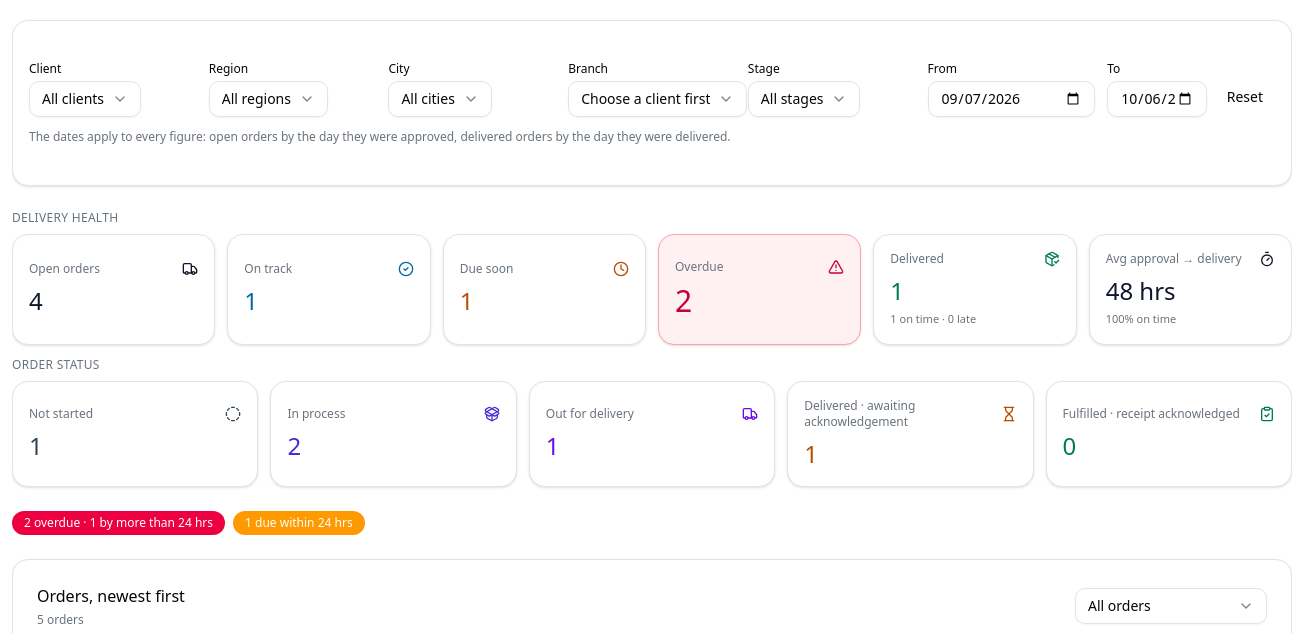
Scenario: choosing a KPI card › says so when the chosen card has no orders
Click the button "Fulfilled · receipt acknowledged 0" at [1169, 434], box [1046, 380, 1292, 486]
(page scrolled)
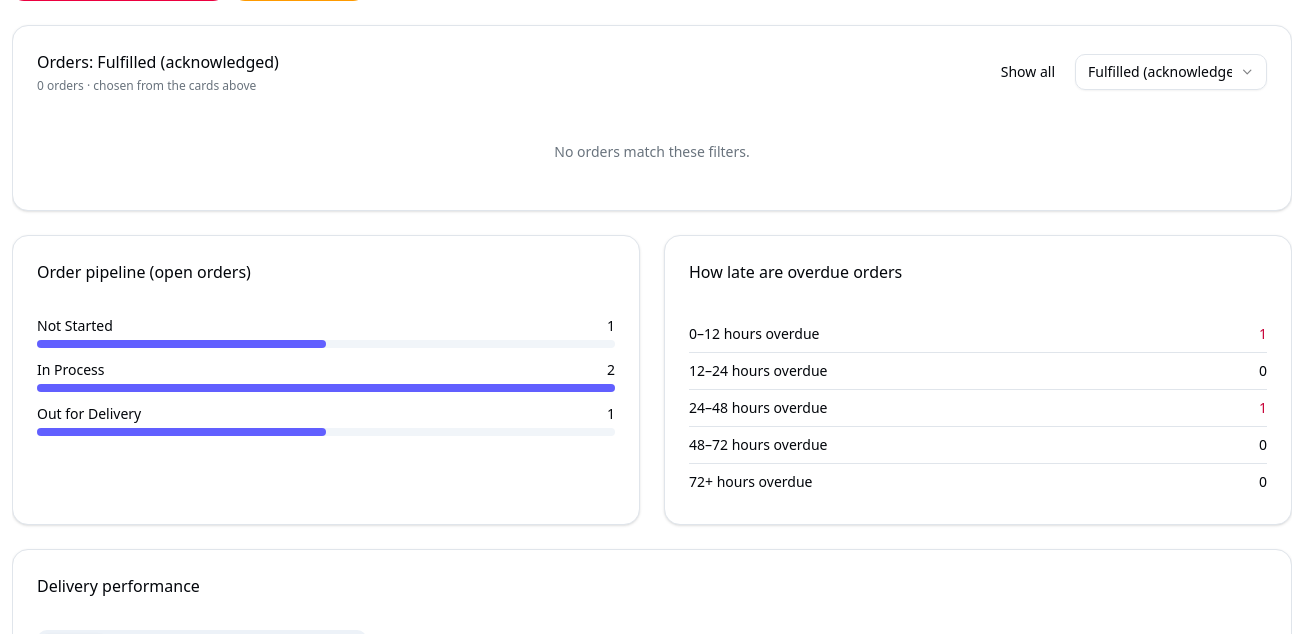
expect the text "0 orders · chosen from the cards above" is shown: met, box [37, 78, 279, 94]
expect the text "No orders match these filters." is shown: met, box [554, 142, 750, 160]
